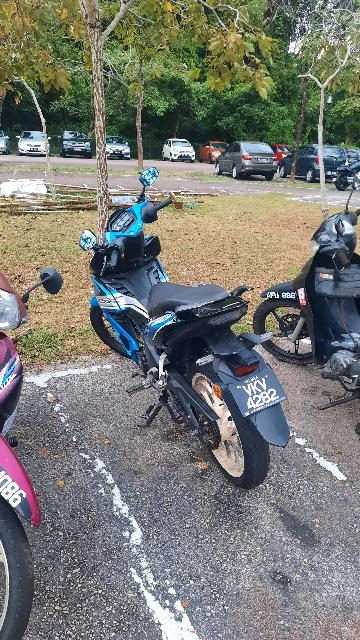License_Plate: (225, 367, 299, 423)
motorcycle: (69, 157, 298, 493)
